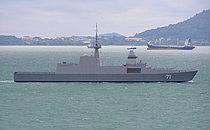MIL_Ship: (12, 23, 199, 83)
